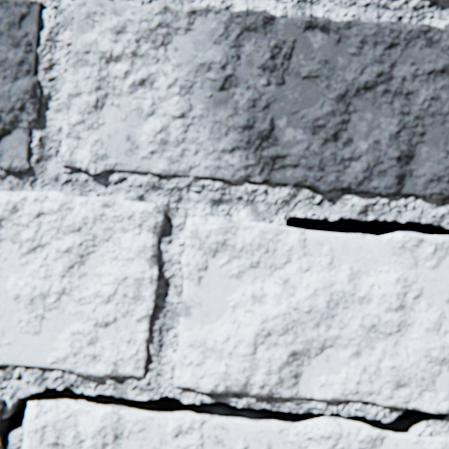brick: (60, 0, 448, 198), (174, 216, 448, 412), (0, 191, 166, 376), (24, 400, 448, 448), (0, 0, 43, 172), (0, 397, 6, 448), (429, 0, 448, 2)
crack: (2, 387, 446, 448), (286, 217, 448, 236)
